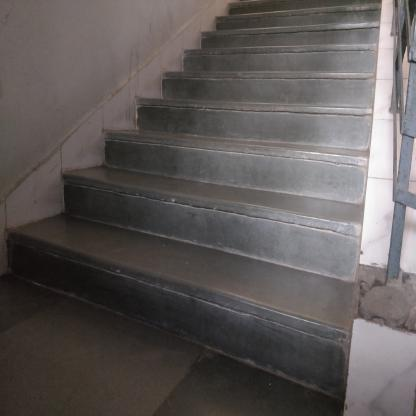stairs: (172, 88, 341, 412)
